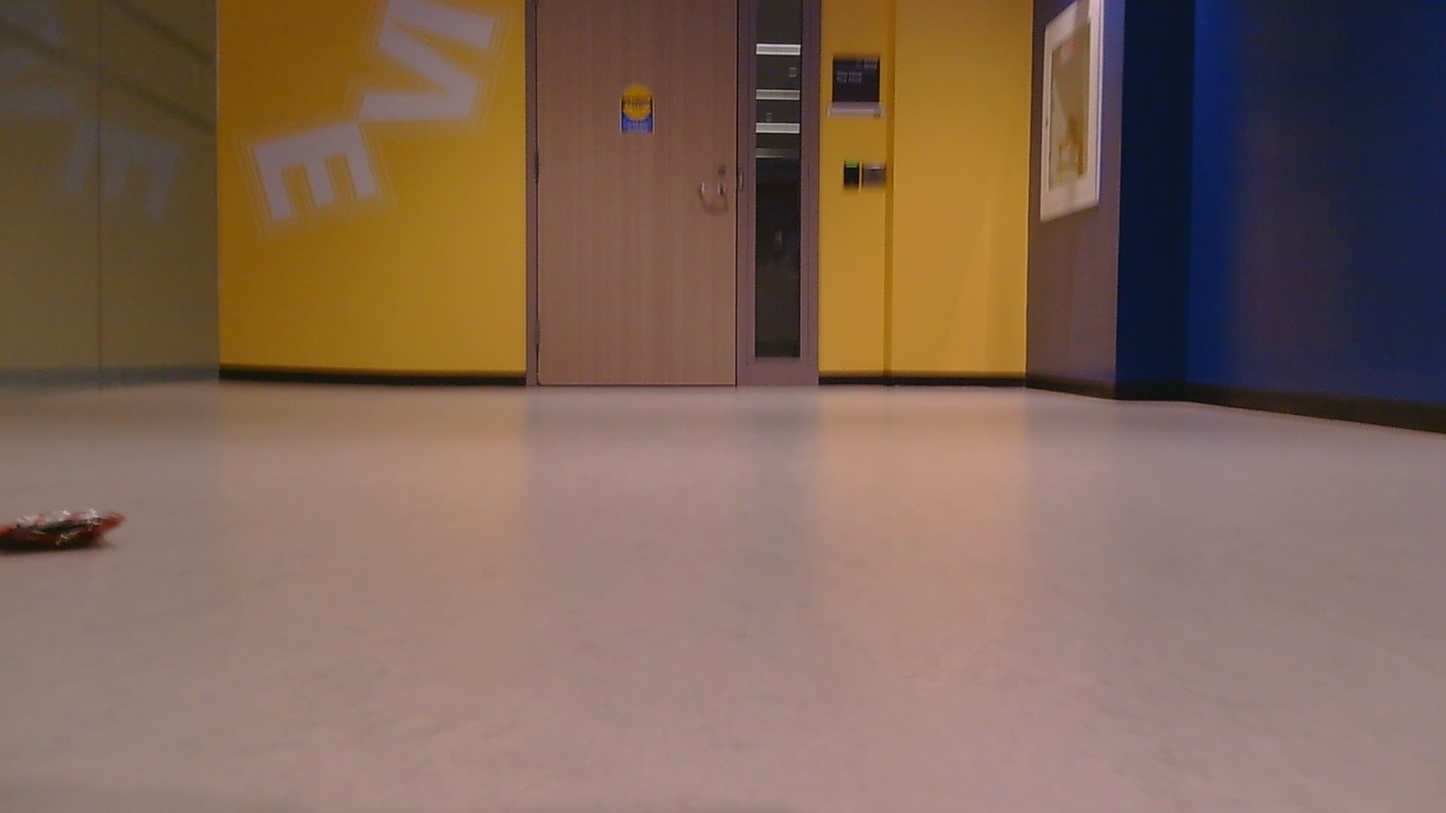can: (0, 507, 126, 559)
